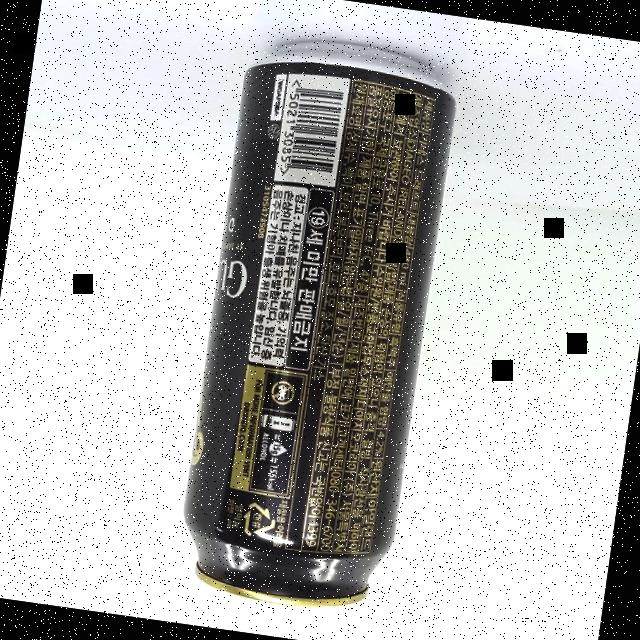can: (172, 29, 464, 618)
